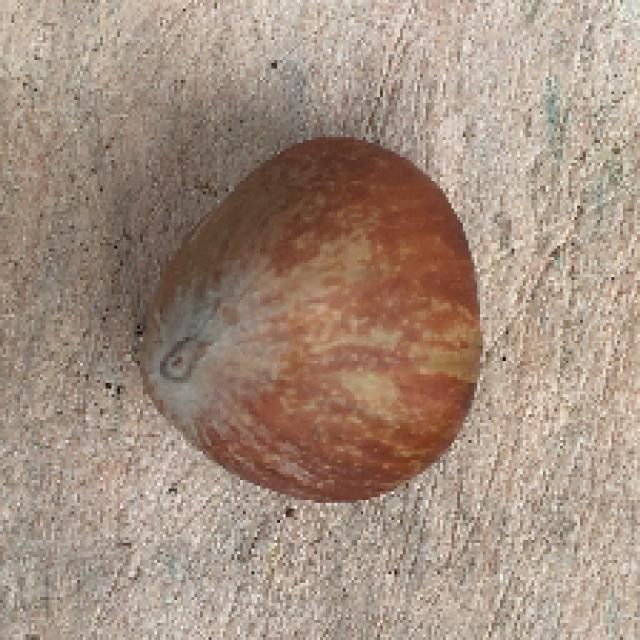qualityHazelnut: (135, 138, 503, 509)
